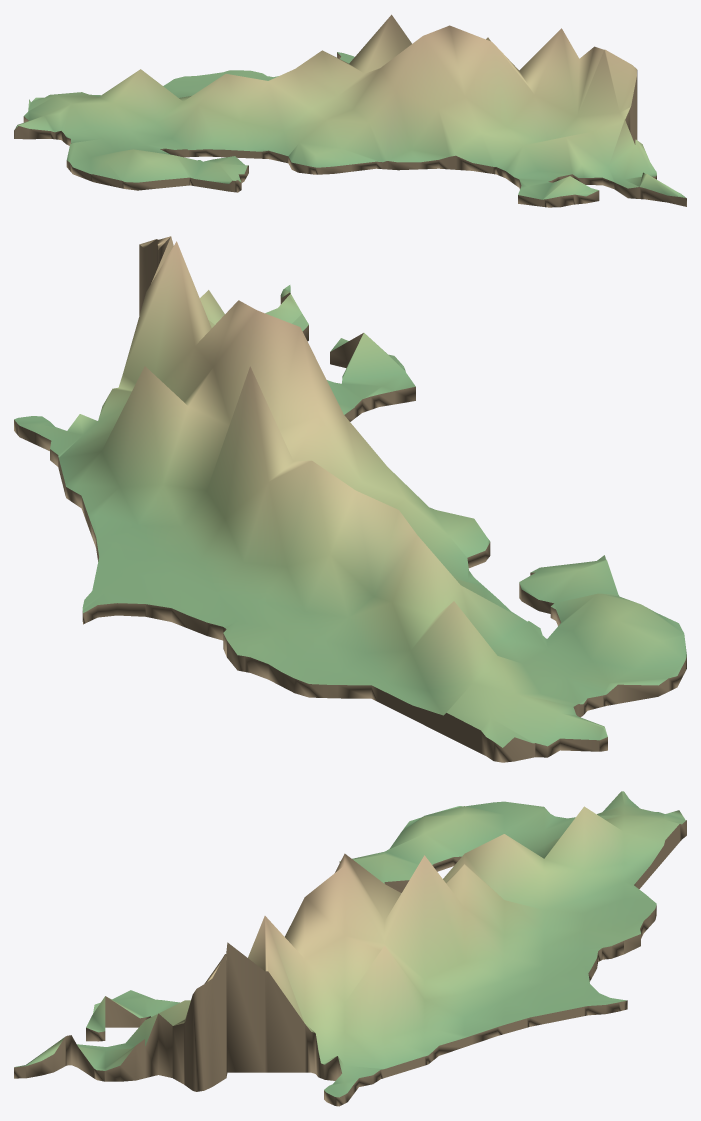
The model's file is CRI.glb.
3 renders of one model, top to bottom at view 1: azimuth 30°, elevation 25°; view 2: azimuth 150°, elevation 25°; view 3: azimuth 270°, elevation 25°, orthographic. The views are drawn at different scales.
Parts seen in each view (by area): view 1: CRI; view 2: CRI; view 3: CRI.
Boxes of the visible parts, <box> form: CRI: <box>14,14,686,207</box>; CRI: <box>14,236,686,762</box>; CRI: <box>14,791,686,1106</box>.
Bounding box in the file's own units: 1.49 × 0.338 × 1.41.
